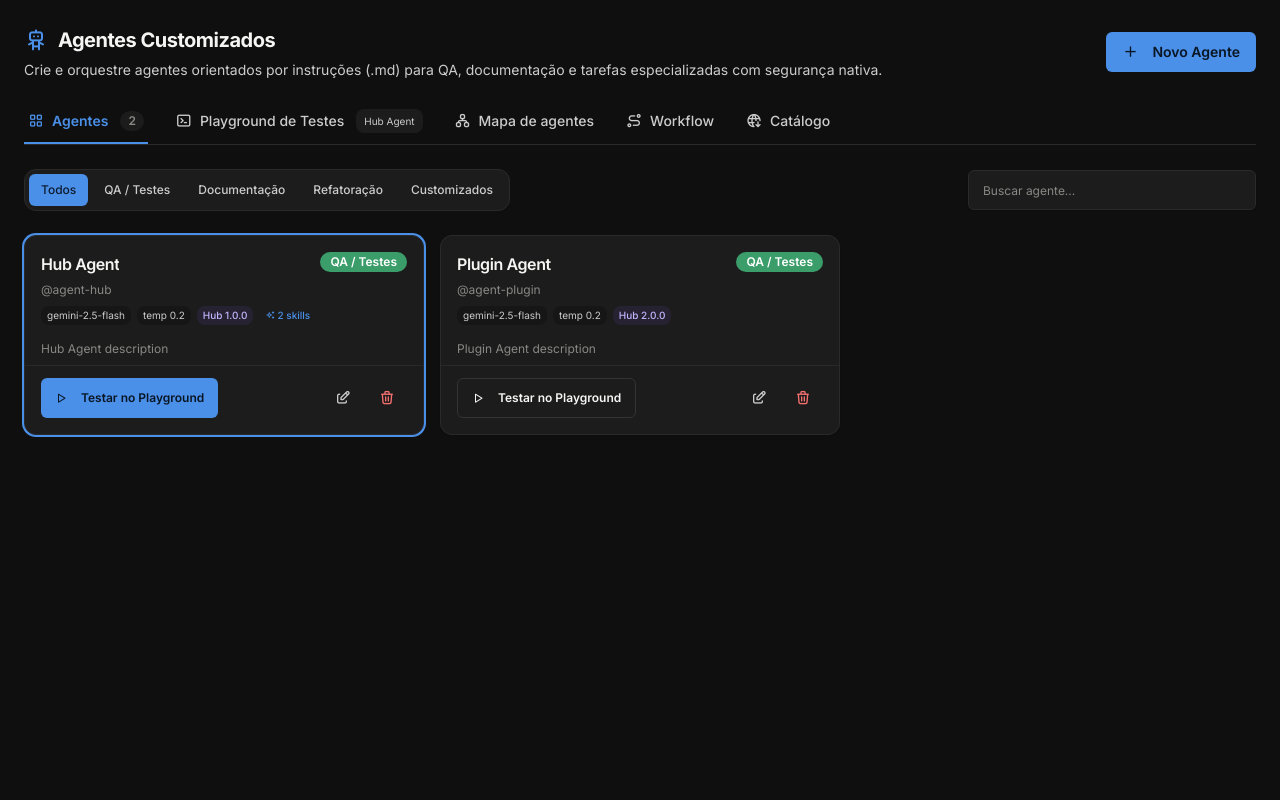
Test case: AgentsView catalog extras › marks hub agents and skill counts, and survives unavailable integrations
Note: A hub without skills leaves the skill picker empty.
Click the button with test id "create-agent-button".
click(1181, 52)  # box [1106, 32, 1256, 72]
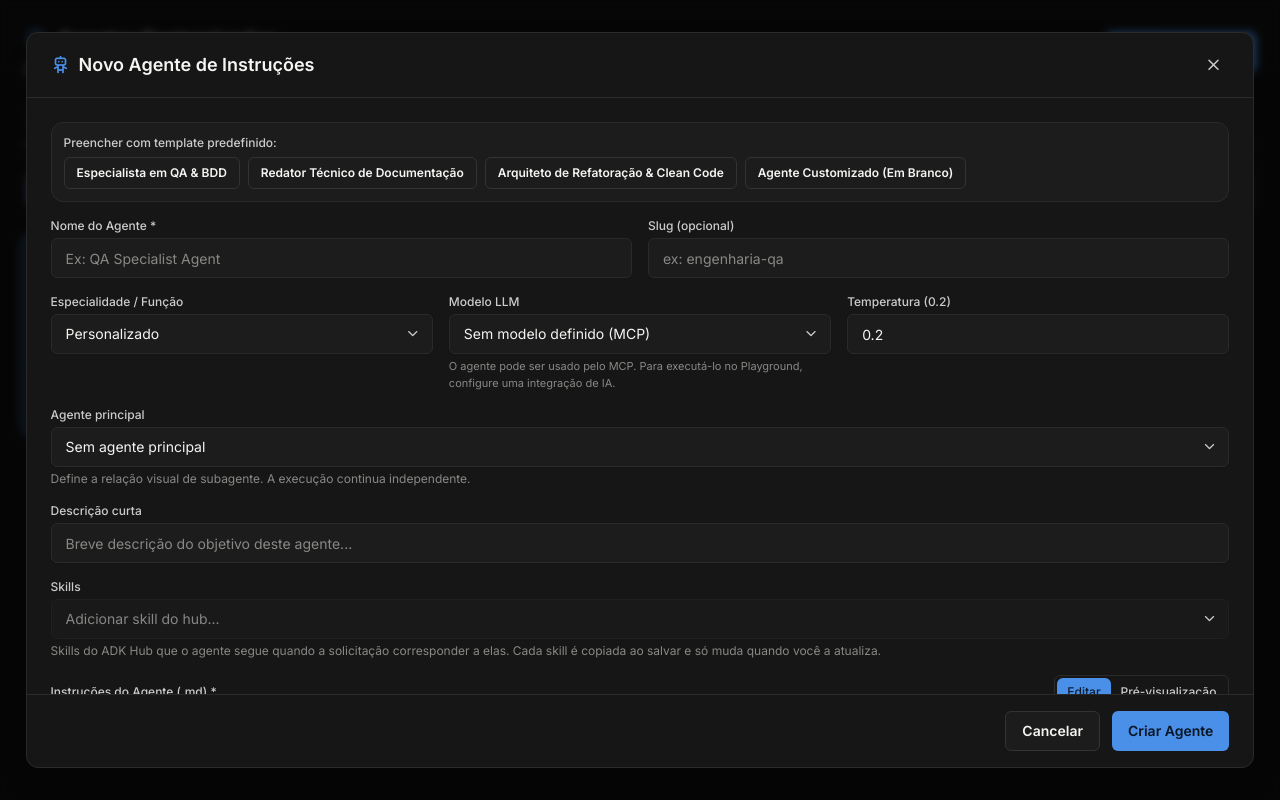
Expected: the dialog is shown
